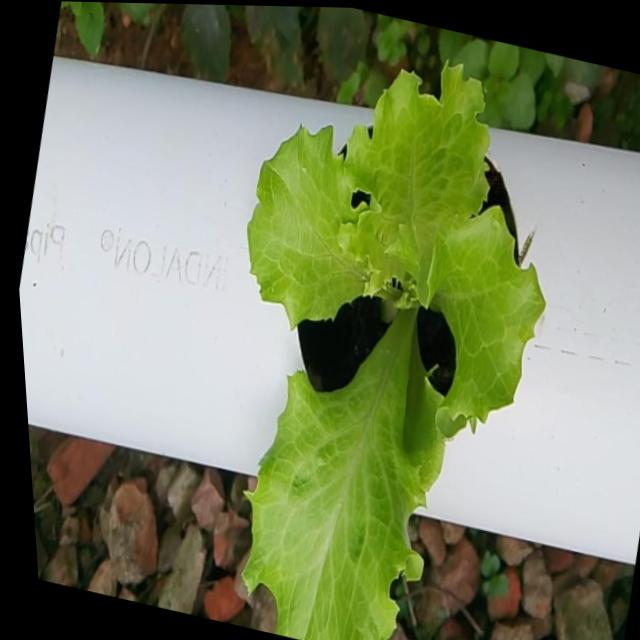Baby: (229, 64, 530, 640)
